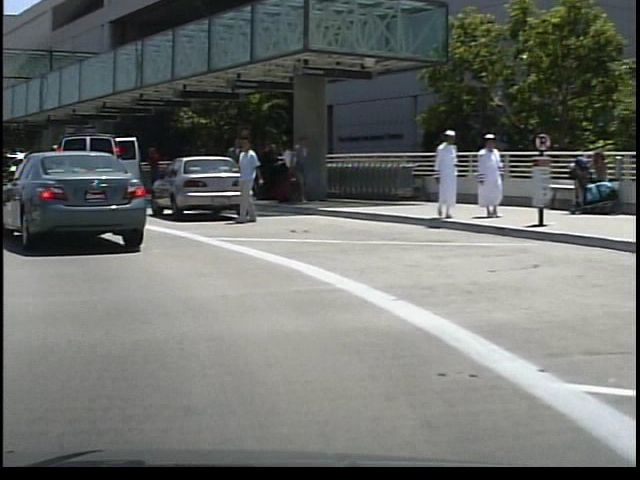person: (228, 132, 264, 229), (465, 129, 501, 221), (426, 126, 457, 221), (281, 133, 308, 208), (140, 142, 163, 206)
